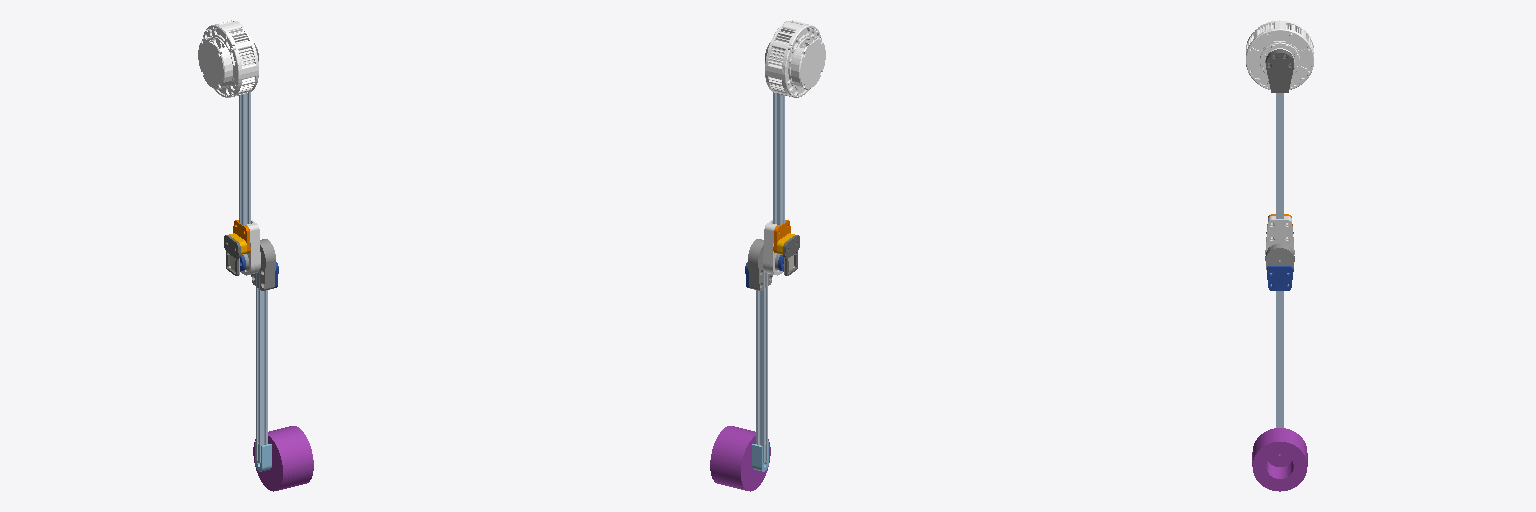
The robot description file, URDF, robot "robot":
<?xml version="1.0" ?>
<!-- Generated using onshape-to-robot -->
<!-- Onshape https://cad.onshape.com/documents/aec25e004784a35842d8e9b0/w/78dcb336bdd3d929cd553c3a/e/ceb97de529eb41201314bd5a -->
<robot name="robot">
  <!-- Link housing -->
  <link name="housing">
    <inertial>
      <origin xyz="0.0237067 -0.000271186 -0.000185467" rpy="0 0 0"/>
      <mass value="0.195"/>
      <inertia ixx="0.000162348" ixy="-6.9347e-08" ixz="-7.13461e-07" iyy="9.45295e-05" iyz="3.4455e-08" izz="9.68641e-05"/>
    </inertial>
    <!-- Part housing -->
    <visual>
      <origin xyz="0 0 0" rpy="1.5708 0 -0"/>
      <geometry>
        <mesh filename="package://assets/housing.stl"/>
      </geometry>
      <material name="housing_material">
        <color rgba="0.996078 0.996078 1 1"/>
      </material>
    </visual>
    <collision>
      <origin xyz="0 0 0" rpy="1.5708 0 -0"/>
      <geometry>
        <mesh filename="package://assets/housing.stl"/>
      </geometry>
    </collision>
  </link>
  <!-- Link shaft -->
  <link name="shaft">
    <inertial>
      <origin xyz="0 0 0.00431706" rpy="0 0 0"/>
      <mass value="0.195"/>
      <inertia ixx="1.74278e-05" ixy="0" ixz="-0" iyy="1.74278e-05" iyz="0" izz="3.04938e-05"/>
    </inertial>
    <!-- Part shaft -->
    <visual>
      <origin xyz="-0 0 0.039" rpy="0 1.5708 0"/>
      <geometry>
        <mesh filename="package://assets/shaft.stl"/>
      </geometry>
      <material name="shaft_material">
        <color rgba="0.996078 0.996078 1 1"/>
      </material>
    </visual>
    <collision>
      <origin xyz="-0 0 0.039" rpy="0 1.5708 0"/>
      <geometry>
        <mesh filename="package://assets/shaft.stl"/>
      </geometry>
    </collision>
  </link>
  <!-- Link motor_handle -->
  <link name="motor_handle">
    <inertial>
      <origin xyz="0 0.153921 -0.00414835" rpy="0 0 0"/>
      <mass value="0.0902183"/>
      <inertia ixx="0.000797422" ixy="-0" ixz="-0" iyy="7.44487e-06" iyz="-9.946e-06" izz="0.000799332"/>
    </inertial>
    <!-- Part motor_handle -->
    <visual>
      <origin xyz="-0 -0 0.0437" rpy="-1.5708 1.5708 0"/>
      <geometry>
        <mesh filename="package://assets/motor_handle.stl"/>
      </geometry>
      <material name="motor_handle_material">
        <color rgba="0.498039 0.498039 0.498039 1"/>
      </material>
    </visual>
    <collision>
      <origin xyz="-0 -0 0.0437" rpy="-1.5708 1.5708 0"/>
      <geometry>
        <mesh filename="package://assets/motor_handle.stl"/>
      </geometry>
    </collision>
    <!-- Part bearing -->
    <visual>
      <origin xyz="0 0.241369 -0.0096" rpy="0 0 1.5708"/>
      <geometry>
        <mesh filename="package://assets/bearing.stl"/>
      </geometry>
      <material name="bearing_material">
        <color rgba="0.615686 0.811765 0.929412 1"/>
      </material>
    </visual>
    <collision>
      <origin xyz="0 0.241369 -0.0096" rpy="0 0 1.5708"/>
      <geometry>
        <mesh filename="package://assets/bearing.stl"/>
      </geometry>
    </collision>
    <!-- Part encoder_plate -->
    <visual>
      <origin xyz="0 0.241369 -0.0096" rpy="0 0 1.5708"/>
      <geometry>
        <mesh filename="package://assets/encoder_plate.stl"/>
      </geometry>
      <material name="encoder_plate_material">
        <color rgba="0.498039 0.498039 0.498039 1"/>
      </material>
    </visual>
    <collision>
      <origin xyz="0 0.241369 -0.0096" rpy="0 0 1.5708"/>
      <geometry>
        <mesh filename="package://assets/encoder_plate.stl"/>
      </geometry>
    </collision>
    <!-- Part fixed_handle -->
    <visual>
      <origin xyz="0 0.241369 -0.0096" rpy="0 0 1.5708"/>
      <geometry>
        <mesh filename="package://assets/fixed_handle.stl"/>
      </geometry>
      <material name="fixed_handle_material">
        <color rgba="0.917647 0.917647 0.917647 1"/>
      </material>
    </visual>
    <collision>
      <origin xyz="0 0.241369 -0.0096" rpy="0 0 1.5708"/>
      <geometry>
        <mesh filename="package://assets/fixed_handle.stl"/>
      </geometry>
    </collision>
    <!-- Part fixed_cap -->
    <visual>
      <origin xyz="0 0.241369 -0.0096" rpy="0 0 1.5708"/>
      <geometry>
        <mesh filename="package://assets/fixed_cap.stl"/>
      </geometry>
      <material name="fixed_cap_material">
        <color rgba="0.972549 0.529412 0.00392157 1"/>
      </material>
    </visual>
    <collision>
      <origin xyz="0 0.241369 -0.0096" rpy="0 0 1.5708"/>
      <geometry>
        <mesh filename="package://assets/fixed_cap.stl"/>
      </geometry>
    </collision>
    <!-- Part encoder_plate_spacer -->
    <visual>
      <origin xyz="0 0.241369 -0.0096" rpy="0 0 1.5708"/>
      <geometry>
        <mesh filename="package://assets/encoder_plate_spacer.stl"/>
      </geometry>
      <material name="encoder_plate_spacer_material">
        <color rgba="0.980392 0.713725 0.00392157 1"/>
      </material>
    </visual>
    <collision>
      <origin xyz="0 0.241369 -0.0096" rpy="0 0 1.5708"/>
      <geometry>
        <mesh filename="package://assets/encoder_plate_spacer.stl"/>
      </geometry>
    </collision>
    <!-- Part as5600_breakout_board -->
    <visual>
      <origin xyz="0 0.241369 -0.0096" rpy="0 0 1.5708"/>
      <geometry>
        <mesh filename="package://assets/as5600_breakout_board.stl"/>
      </geometry>
      <material name="as5600_breakout_board_material">
        <color rgba="0.819608 0.8 0.752941 1"/>
      </material>
    </visual>
    <collision>
      <origin xyz="0 0.241369 -0.0096" rpy="0 0 1.5708"/>
      <geometry>
        <mesh filename="package://assets/as5600_breakout_board.stl"/>
      </geometry>
    </collision>
    <!-- Part makerbeam_10mm -->
    <visual>
      <origin xyz="0 -0 0.0437" rpy="-1.5708 1.5708 0"/>
      <geometry>
        <mesh filename="package://assets/makerbeam_10mm.stl"/>
      </geometry>
      <material name="makerbeam_10mm_material">
        <color rgba="0.760784 0.839216 0.92549 1"/>
      </material>
    </visual>
    <collision>
      <origin xyz="0 -0 0.0437" rpy="-1.5708 1.5708 0"/>
      <geometry>
        <mesh filename="package://assets/makerbeam_10mm.stl"/>
      </geometry>
    </collision>
  </link>
  <!-- Link bearing_axe -->
  <link name="bearing_axe">
    <inertial>
      <origin xyz="0.0790606 8.91988e-06 0.0137513" rpy="0 0 0"/>
      <mass value="0.063435"/>
      <inertia ixx="6.66733e-06" ixy="3.7265e-08" ixz="-9.81805e-06" iyy="0.00046914" iyz="-1.189e-09" izz="0.000467602"/>
    </inertial>
    <!-- Part mobile_cap -->
    <visual>
      <origin xyz="0 0 0" rpy="3.14159 0 0"/>
      <geometry>
        <mesh filename="package://assets/mobile_cap.stl"/>
      </geometry>
      <material name="mobile_cap_material">
        <color rgba="0.231373 0.380392 0.705882 1"/>
      </material>
    </visual>
    <collision>
      <origin xyz="0 0 0" rpy="3.14159 0 0"/>
      <geometry>
        <mesh filename="package://assets/mobile_cap.stl"/>
      </geometry>
    </collision>
    <!-- Part mobile_handle -->
    <visual>
      <origin xyz="0 0 0" rpy="3.14159 0 0"/>
      <geometry>
        <mesh filename="package://assets/mobile_handle.stl"/>
      </geometry>
      <material name="mobile_handle_material">
        <color rgba="0.647059 0.647059 0.647059 1"/>
      </material>
    </visual>
    <collision>
      <origin xyz="0 0 0" rpy="3.14159 0 0"/>
      <geometry>
        <mesh filename="package://assets/mobile_handle.stl"/>
      </geometry>
    </collision>
    <!-- Part bearing_axe -->
    <visual>
      <origin xyz="0 0 0" rpy="3.14159 0 0"/>
      <geometry>
        <mesh filename="package://assets/bearing_axe.stl"/>
      </geometry>
      <material name="bearing_axe_material">
        <color rgba="0.647059 0.647059 0.647059 1"/>
      </material>
    </visual>
    <collision>
      <origin xyz="0 0 0" rpy="3.14159 0 0"/>
      <geometry>
        <mesh filename="package://assets/bearing_axe.stl"/>
      </geometry>
    </collision>
    <!-- Part makerbeam_10mm_2 -->
    <visual>
      <origin xyz="0.234 0 -0.0325" rpy="0 -1.5708 0"/>
      <geometry>
        <mesh filename="package://assets/makerbeam_10mm.stl"/>
      </geometry>
      <material name="makerbeam_10mm_2_material">
        <color rgba="0.760784 0.839216 0.92549 1"/>
      </material>
    </visual>
    <collision>
      <origin xyz="0.234 0 -0.0325" rpy="0 -1.5708 0"/>
      <geometry>
        <mesh filename="package://assets/makerbeam_10mm.stl"/>
      </geometry>
    </collision>
    <!-- Part mobile_spacer -->
    <visual>
      <origin xyz="0 0 0" rpy="3.14159 0 0"/>
      <geometry>
        <mesh filename="package://assets/mobile_spacer.stl"/>
      </geometry>
      <material name="mobile_spacer_material">
        <color rgba="0.8 0.74902 0.913725 1"/>
      </material>
    </visual>
    <collision>
      <origin xyz="0 0 0" rpy="3.14159 0 0"/>
      <geometry>
        <mesh filename="package://assets/mobile_spacer.stl"/>
      </geometry>
    </collision>
    <!-- Part magnet_stand -->
    <visual>
      <origin xyz="0 0 0" rpy="3.14159 0 0"/>
      <geometry>
        <mesh filename="package://assets/magnet_stand.stl"/>
      </geometry>
      <material name="magnet_stand_material">
        <color rgba="0.231373 0.380392 0.705882 1"/>
      </material>
    </visual>
    <collision>
      <origin xyz="0 0 0" rpy="3.14159 0 0"/>
      <geometry>
        <mesh filename="package://assets/magnet_stand.stl"/>
      </geometry>
    </collision>
    <!-- Part wheel_support -->
    <visual>
      <origin xyz="0.246 0 0.011" rpy="-0 -0 -1.5708"/>
      <geometry>
        <mesh filename="package://assets/wheel_support.stl"/>
      </geometry>
      <material name="wheel_support_material">
        <color rgba="0.615686 0.811765 0.929412 1"/>
      </material>
    </visual>
    <collision>
      <origin xyz="0.246 0 0.011" rpy="-0 -0 -1.5708"/>
      <geometry>
        <mesh filename="package://assets/wheel_support.stl"/>
      </geometry>
    </collision>
  </link>
  <!-- Link wheel -->
  <link name="wheel">
    <inertial>
      <origin xyz="0 -0 -0.0182091" rpy="0 0 0"/>
      <mass value="0.121"/>
      <inertia ixx="5.25074e-05" ixy="0" ixz="0" iyy="5.25074e-05" iyz="-0" izz="7.43868e-05"/>
    </inertial>
    <!-- Part wheel -->
    <visual>
      <origin xyz="0 0 0.0097" rpy="3.14159 0 -0"/>
      <geometry>
        <mesh filename="package://assets/wheel.stl"/>
      </geometry>
      <material name="wheel_material">
        <color rgba="0.682353 0.333333 0.737255 1"/>
      </material>
    </visual>
    <collision>
      <origin xyz="0 0 0.0097" rpy="3.14159 0 -0"/>
      <geometry>
        <mesh filename="package://assets/wheel.stl"/>
      </geometry>
    </collision>
  </link>
  <!-- Joint from bearing_axe to wheel -->
  <joint name="pole_to_wheel" type="fixed">
    <origin xyz="0.246 0 0.0207" rpy="3.14159 0 0"/>
    <parent link="bearing_axe"/>
    <child link="wheel"/>
    <axis xyz="0 0 1"/>
  </joint>
  <!-- Joint from motor_handle to bearing_axe -->
  <joint name="free_0" type="revolute">
    <origin xyz="0 0.241369 -0.0096" rpy="-3.14159 0 1.5708"/>
    <parent link="motor_handle"/>
    <child link="bearing_axe"/>
    <axis xyz="0 0 1"/>
    <limit lower="-100000.0" upper="100000.0" effort="100000.0" velocity="100000.0"/>

  </joint>
  <!-- Joint from shaft to motor_handle -->
  <joint name="shaft_to_mobile_handle" type="fixed">
    <origin xyz="-0 0 -0.0015" rpy="0 -0 1.5708"/>
    <parent link="shaft"/>
    <child link="motor_handle"/>
    <axis xyz="0 0 1"/>
  </joint>
  <!-- Joint from housing to shaft -->
  <joint name="gim6010" type="revolute">
    <origin xyz="0.039 -0 -0" rpy="-0 -1.5708 0"/>
    <parent link="housing"/>
    <child link="shaft"/>
    <axis xyz="0 0 1"/>
    <limit lower="-100000.0" upper="100000.0" effort="100000.0" velocity="100000.0"/>
  </joint>
</robot>

--- What the picture shows (computed from the rendered views, not written in the file) ---
The picture shows the robot from 3 angles, left to right: view 1: azimuth 30°, elevation 25°; view 2: azimuth 150°, elevation 25°; view 3: azimuth 270°, elevation 25°; orthographic projection.
Robot: robot — 5 links, 4 joints (2 revolute, 2 fixed); root link housing; default pose: all joints at 0.
Visible links, largest first — view 1: housing, bearing_axe, motor_handle, wheel; view 2: housing, bearing_axe, motor_handle, wheel; view 3: wheel, housing, motor_handle, bearing_axe.
Link boxes in pixels (x1,y1,x2,y2): housing: (198, 20, 258, 97); bearing_axe: (240, 239, 278, 471); motor_handle: (224, 43, 260, 275); wheel: (253, 426, 313, 491); housing: (765, 20, 825, 97); bearing_axe: (745, 239, 783, 471); motor_handle: (763, 43, 799, 275); wheel: (710, 426, 770, 491); wheel: (1252, 428, 1307, 491); housing: (1246, 20, 1313, 89); motor_handle: (1265, 49, 1294, 254); bearing_axe: (1265, 243, 1294, 427).
Size in the robot's own frame: 0.1088 by 0.08 by 0.5594 metres.
Meshes: 17 distinct files referenced, 18 mesh visuals loaded (17 binary STL).
